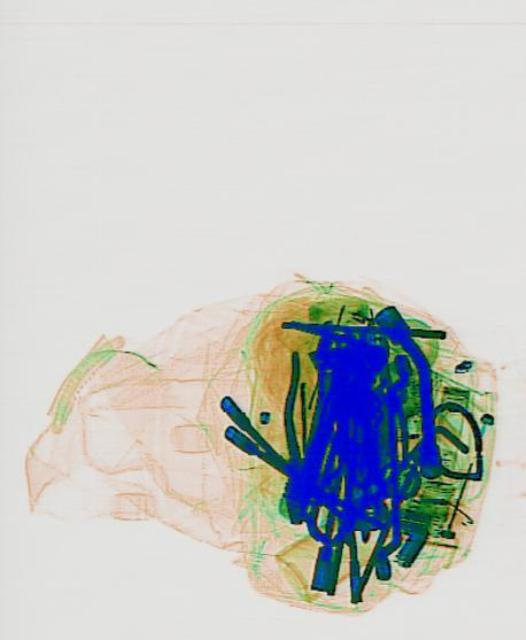Pliers: (266, 346, 338, 526)
